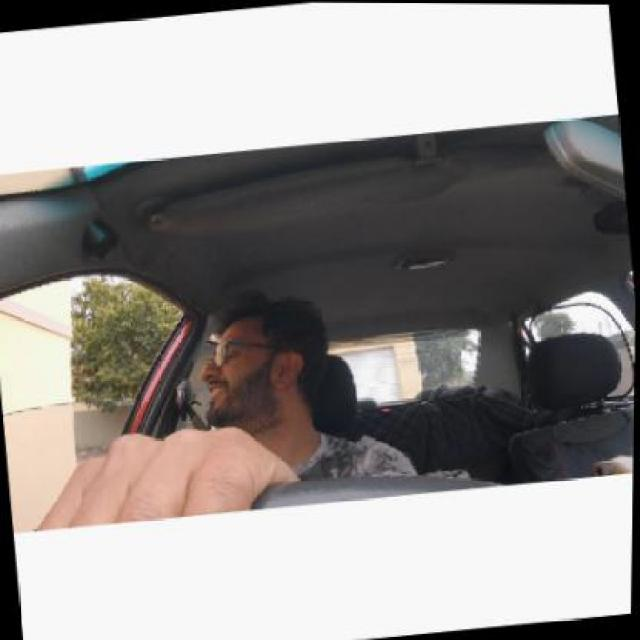LeftRight: (199, 300, 319, 426)
